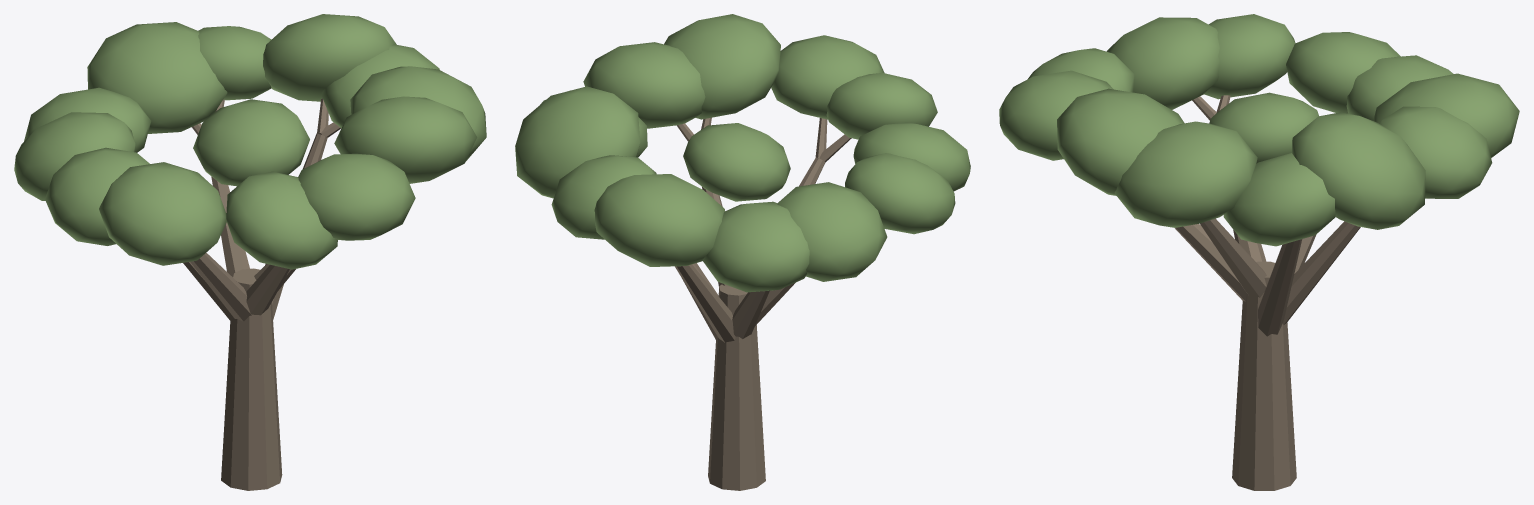
Rendered from oak.glb.
The picture shows the model from 3 angles, left to right: view 1: azimuth 30°, elevation 25°; view 2: azimuth 150°, elevation 25°; view 3: azimuth 270°, elevation 25°; orthographic projection. The views are drawn at different scales.
Parts seen in each view (by area): view 1: oak; view 2: oak; view 3: oak.
Part boxes in pixels (bbox=[...]): oak: bbox=[14, 14, 486, 490]; oak: bbox=[515, 14, 970, 490]; oak: bbox=[999, 14, 1519, 490].
Bounding box in the file's own units: 9.37 × 8.91 × 9.96.
